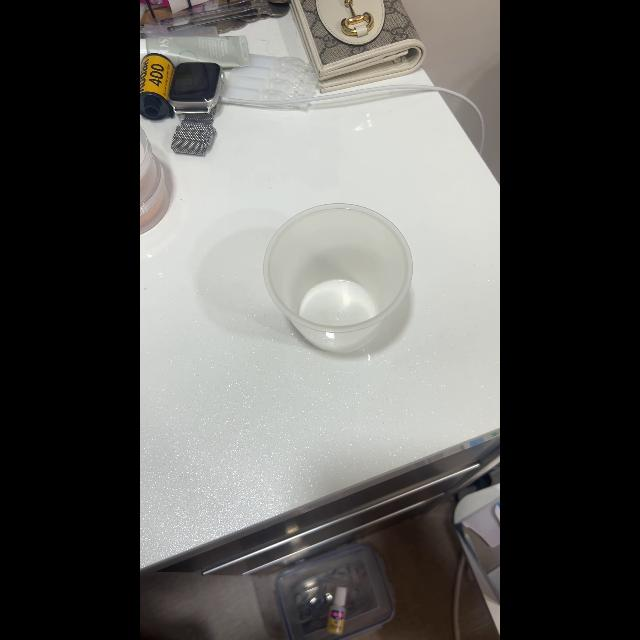clean: (262, 201, 416, 353)
